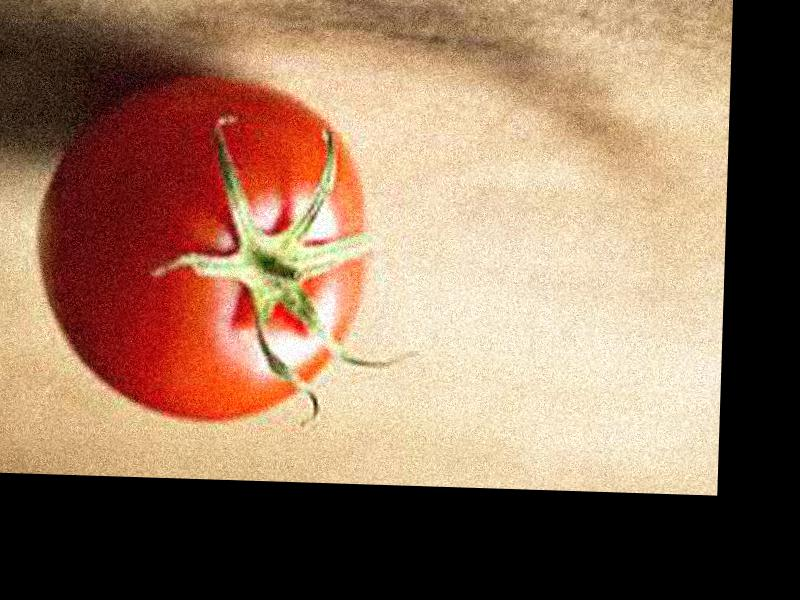Tomato: (35, 74, 376, 421)
